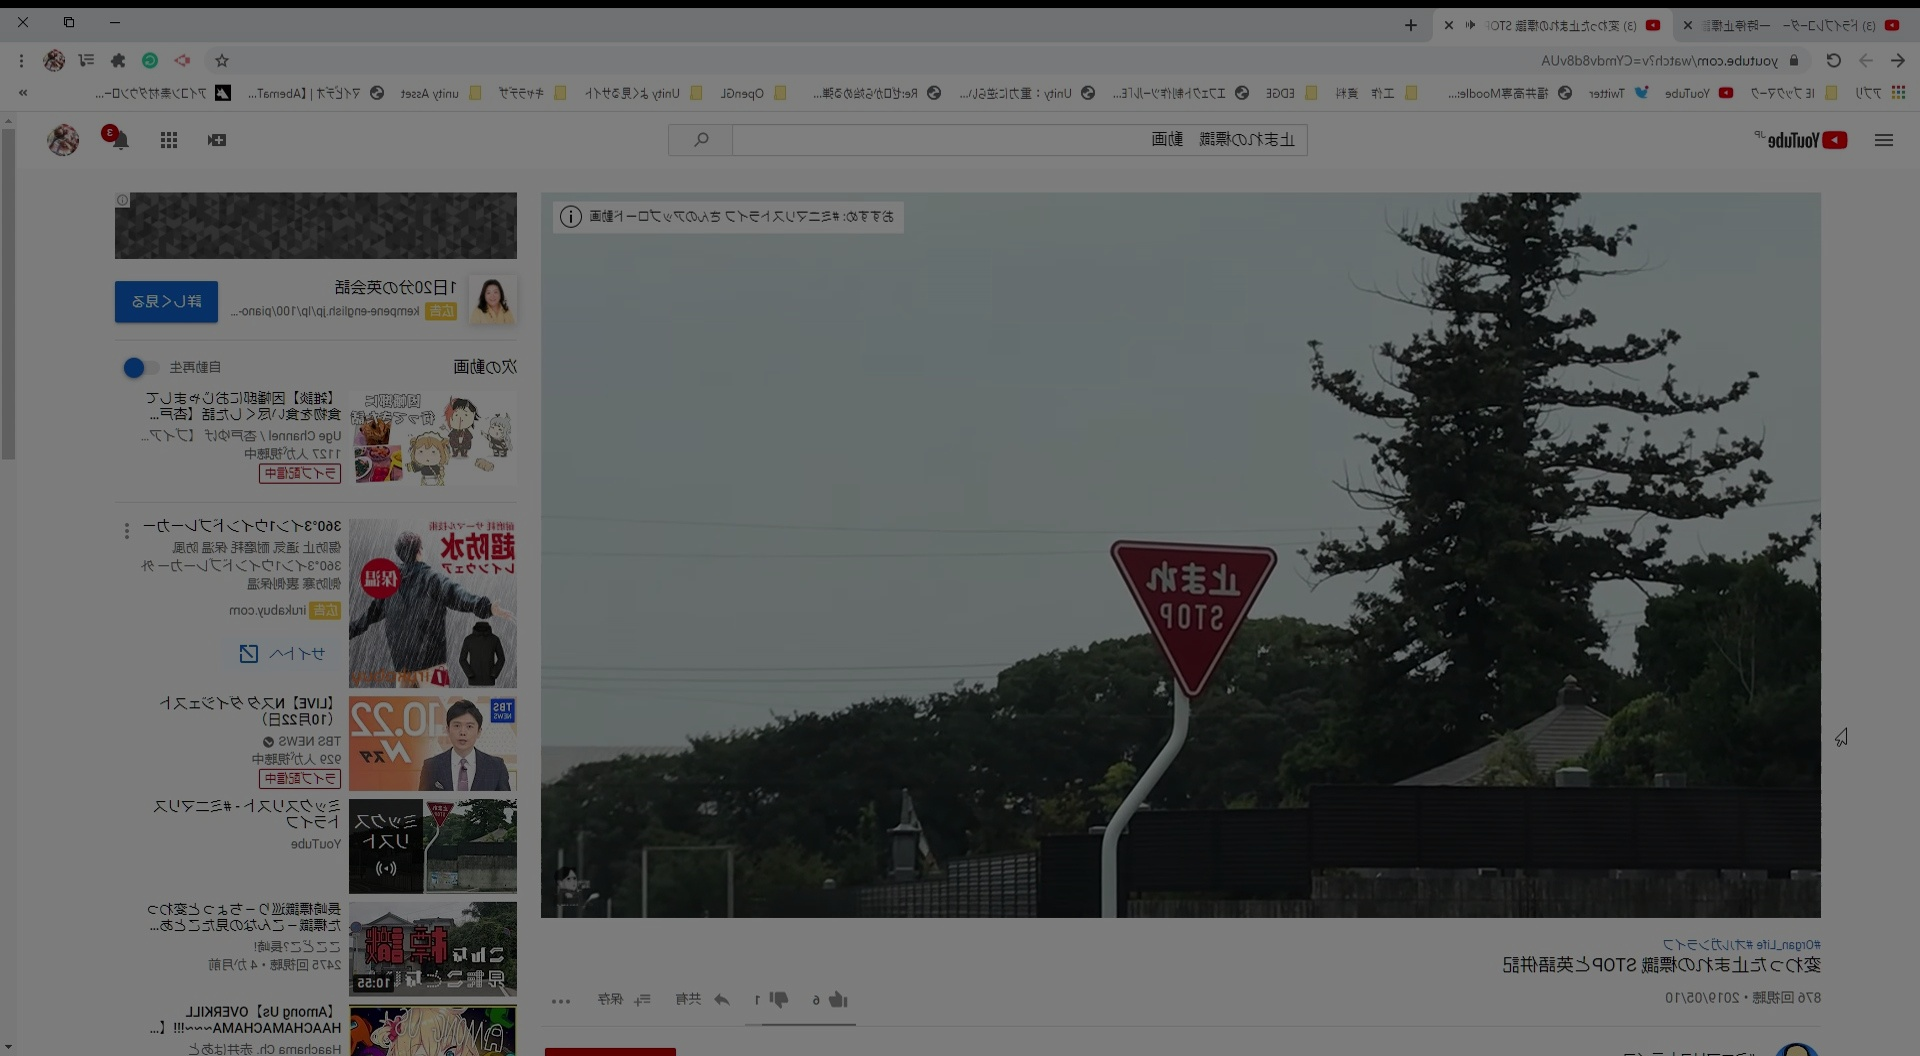Regulatory_sign_triangle: (1109, 535, 1301, 704)
